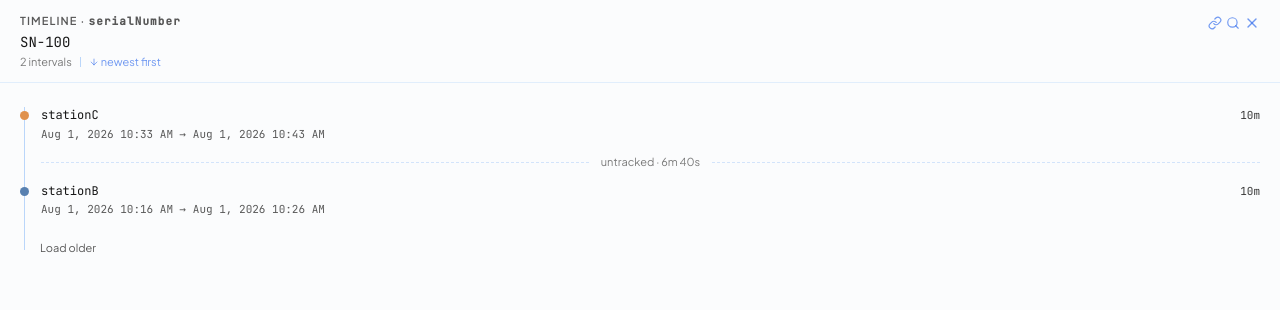
Test: EntityTimelinePanel pager + copy link › loads older intervals with before = oldest loaded; newest-first they read downward
Click the button "Load older".
click(68, 248)  # box [40,240,96,256]
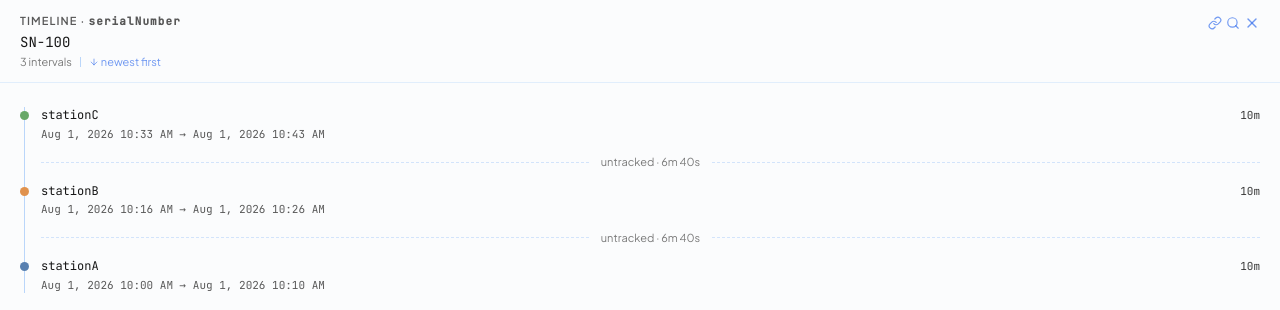
Expected: the text "stationA" is shown, [41,258,99,274]
Expected: the text "3 intervals" is shown, [20,54,72,70]
Expected: the button "Load older" is gone
